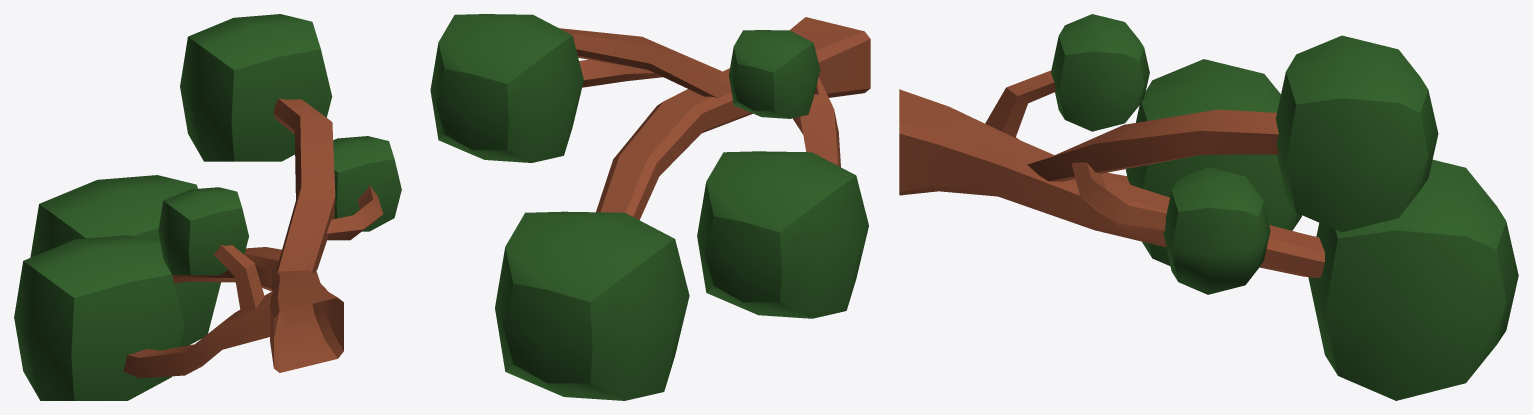
File: Tree 03.FBX
3 views of the same model, side by side, from view 1: azimuth 30°, elevation 25°; view 2: azimuth 150°, elevation 25°; view 3: azimuth 270°, elevation 25° (orthographic). The views are drawn at different scales.
Visible parts, largest first — view 1: Tree 03; view 2: Tree 03; view 3: Tree 03.
Part boxes in pixels (x1=…): Tree 03: x1=14, y1=14, x2=401, y2=400; Tree 03: x1=430, y1=14, x2=870, y2=400; Tree 03: x1=899, y1=14, x2=1518, y2=400.
Bounding box in the file's own units: 461 × 388 × 569.
1 material, 1 textured.
